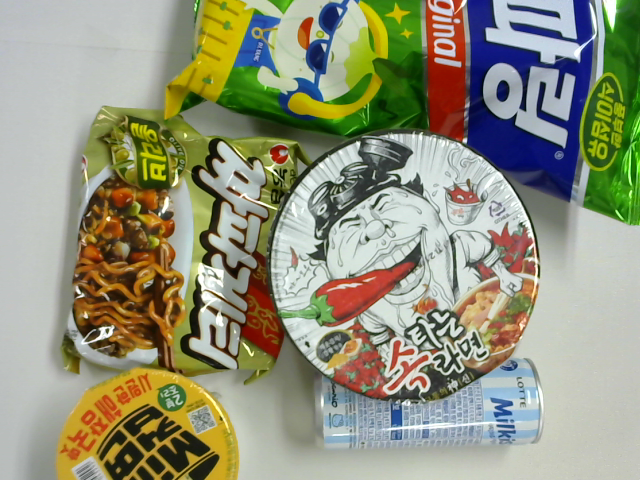HeJangsock: (277, 139, 525, 386)
Milkies_250ml: (292, 364, 550, 447)
Olive_Chapaghetti: (62, 125, 279, 353)
Oninon_Ring: (168, 1, 629, 144)
Udongmini: (65, 369, 237, 480)
